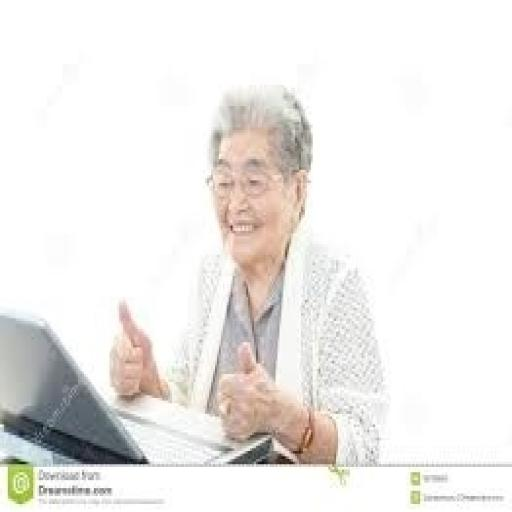using_laptop: (0, 305, 274, 467)
